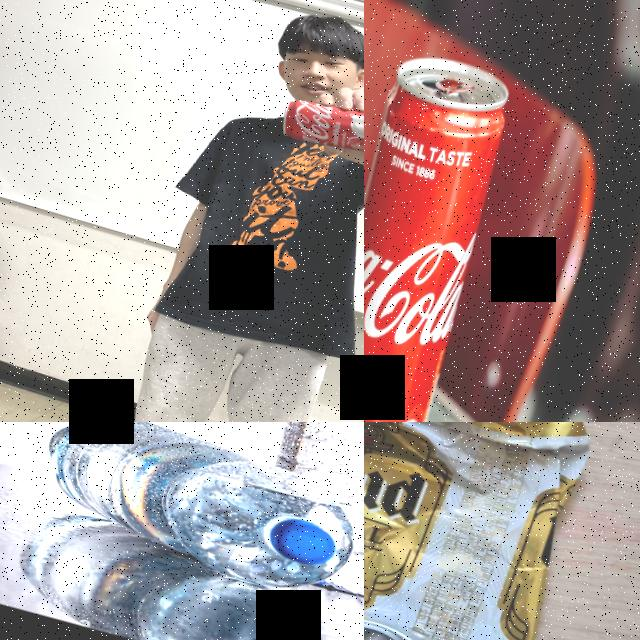bottle: (23, 422, 364, 609), (244, 422, 364, 607)
can: (364, 44, 520, 422), (273, 84, 364, 171)
